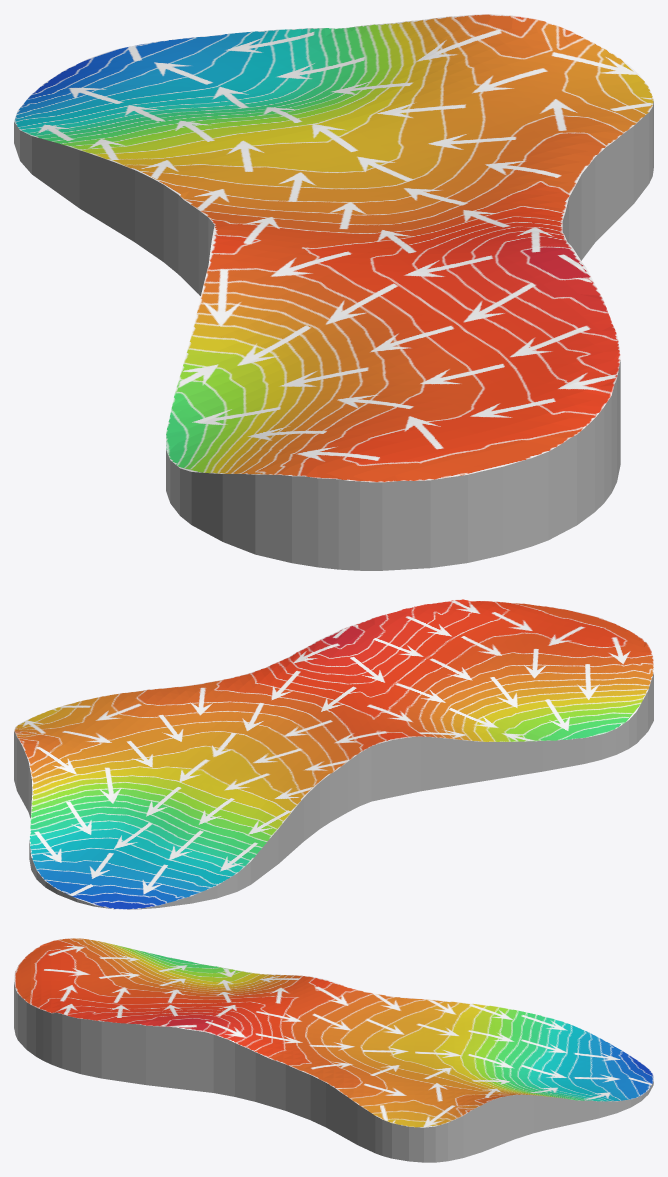
The picture shows the model from 3 angles, top to bottom: view 1: azimuth 30°, elevation 25°; view 2: azimuth 150°, elevation 25°; view 3: azimuth 270°, elevation 25°; orthographic projection. The views are drawn at different scales.
Size of the model in its own units: 4.16 by 0.6402 by 6.03.
Materials: 2 (1 with a texture image).
